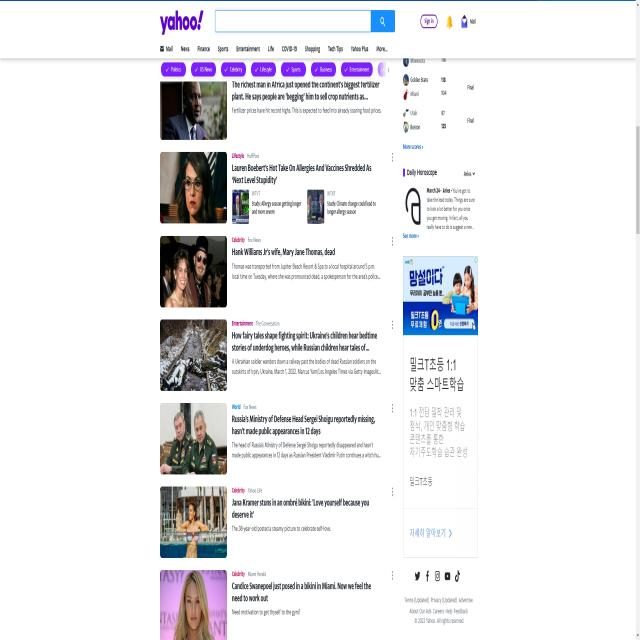menu-bar: (418, 13, 479, 38)
search: (214, 9, 396, 33)
side-panel: (398, 60, 478, 640)
tab-bar: (156, 34, 392, 58)
